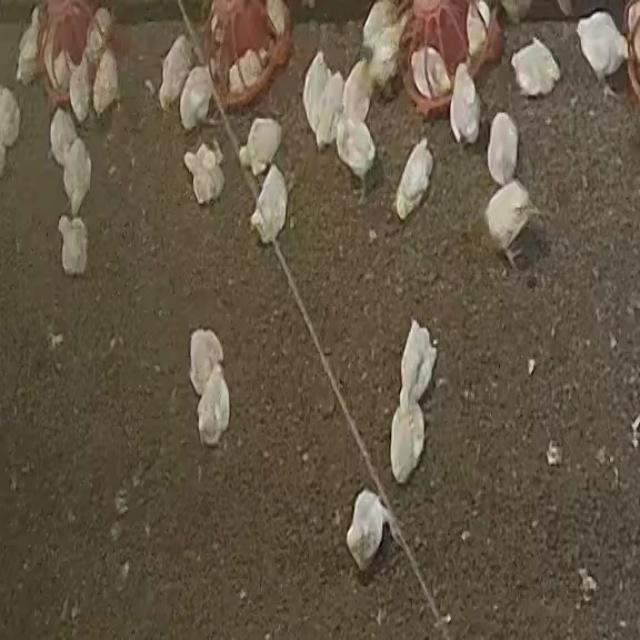chicken: (575, 11, 636, 104), (483, 182, 542, 272), (383, 388, 429, 488), (345, 488, 387, 576), (180, 138, 231, 208), (397, 315, 435, 405), (393, 138, 433, 220), (510, 36, 560, 98), (252, 164, 288, 246), (178, 63, 222, 130), (238, 116, 282, 179), (197, 367, 230, 449), (189, 329, 224, 399), (487, 111, 519, 186), (62, 137, 92, 215), (227, 46, 276, 92), (410, 45, 453, 94), (57, 215, 89, 277)
